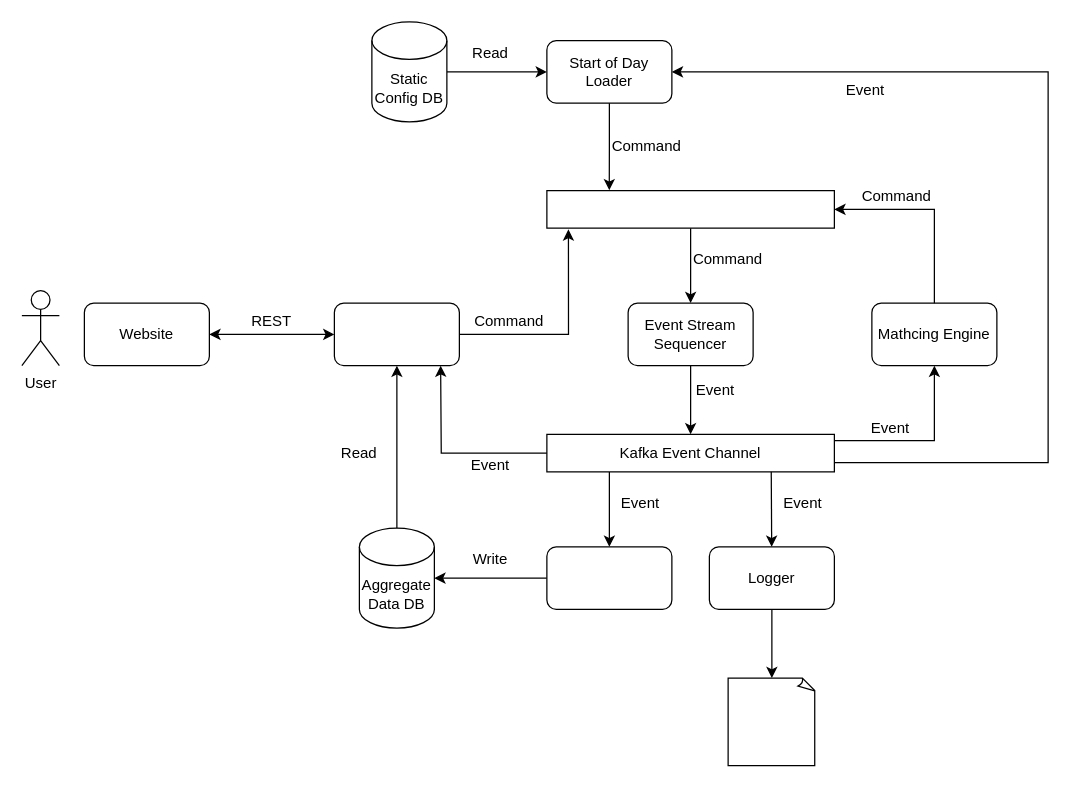
Some shapes in this 1080 by 788 pixel diagram are drawn without their labels. Here are the shapes that lost their labels. From the top down, the centre of each, then its label:
At point 690,208: "Kafka Command Channel".
At point 396,334: "Exchange Client Port".
At point 609,577: "DB Writer".
At point 771,721: "Human Readable Log File".
